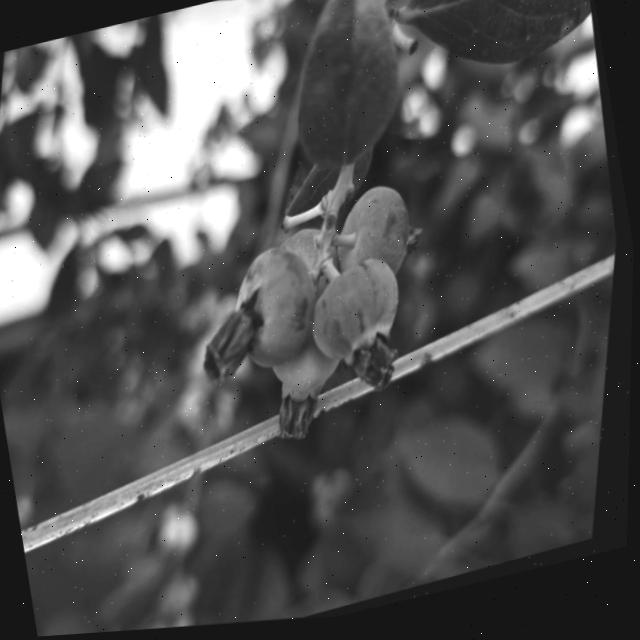Semi-RipeBlueBerry: (291, 243, 427, 399), (210, 231, 341, 390), (325, 172, 437, 299)
